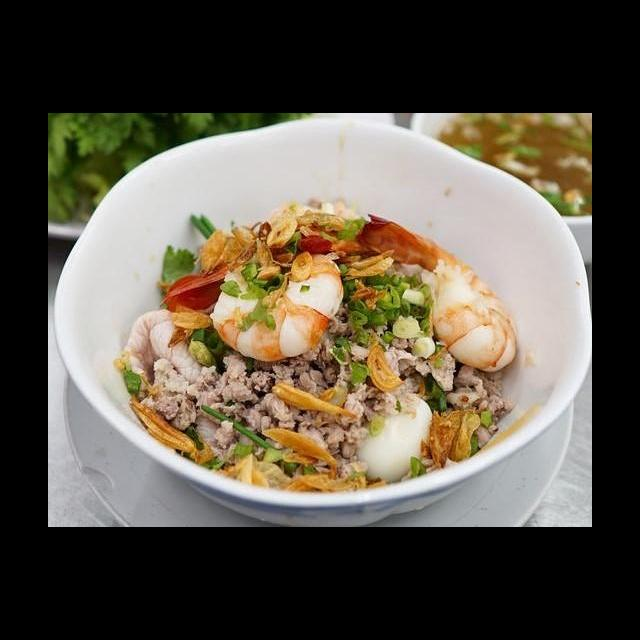thit bam: (137, 350, 376, 487), (296, 306, 460, 425), (439, 359, 519, 455)
thit heo: (115, 305, 220, 393)
tom: (349, 206, 521, 377), (207, 228, 348, 365)
trung: (353, 387, 437, 487)
